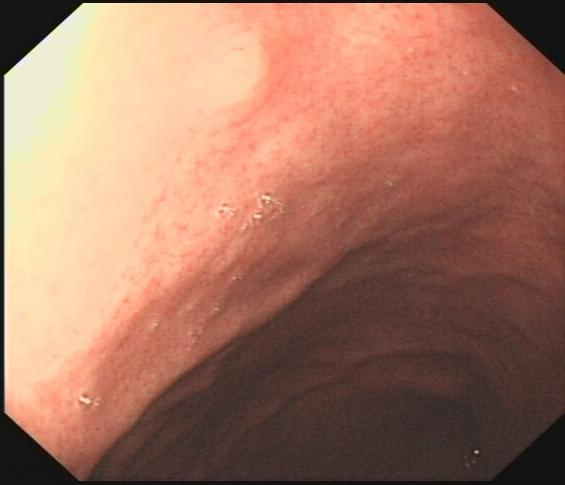Polyp: (173, 23, 278, 119)
